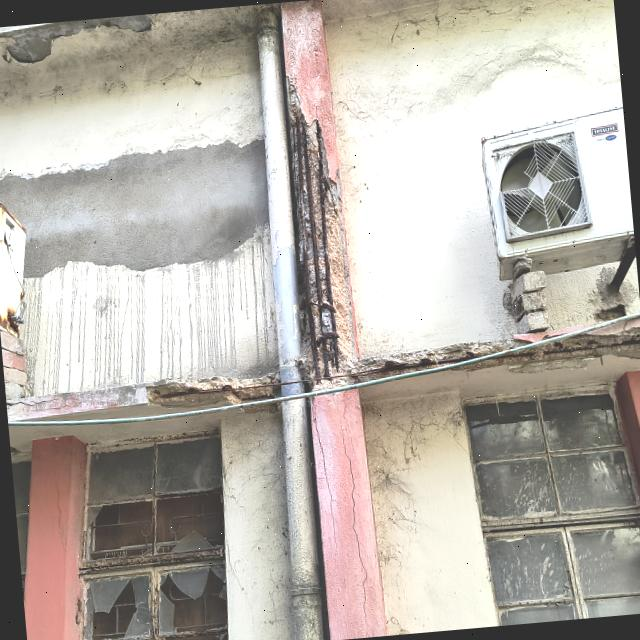crack: (339, 418, 369, 626), (310, 396, 337, 552)
peeling: (0, 14, 152, 63)
spalling: (0, 139, 268, 276), (301, 326, 640, 391), (287, 76, 352, 379), (147, 374, 280, 414), (146, 374, 279, 406)
stain_mould: (0, 203, 26, 244), (0, 306, 21, 335)
